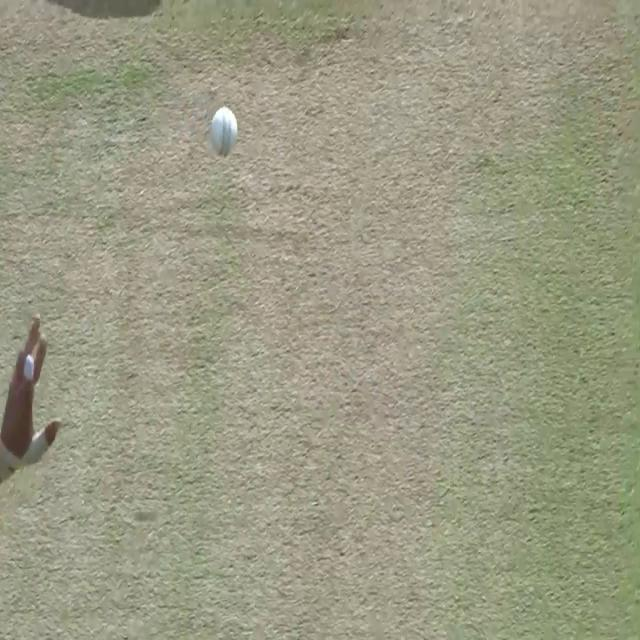ball: (208, 102, 238, 164)
